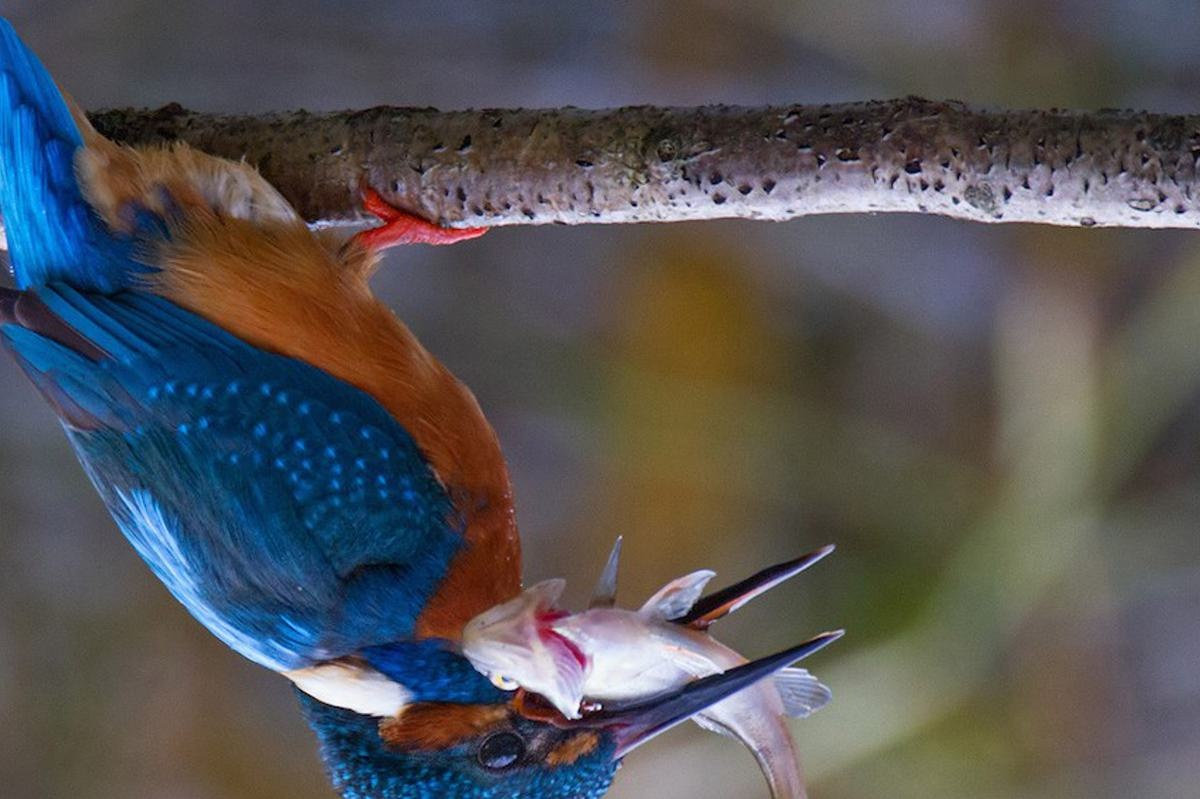kingfisher: (1, 21, 849, 799)
